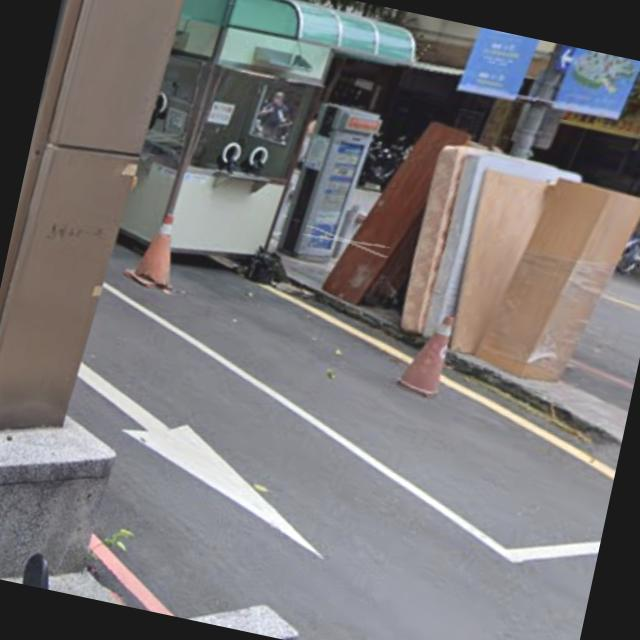cone: (126, 202, 188, 302), (402, 298, 461, 397)
